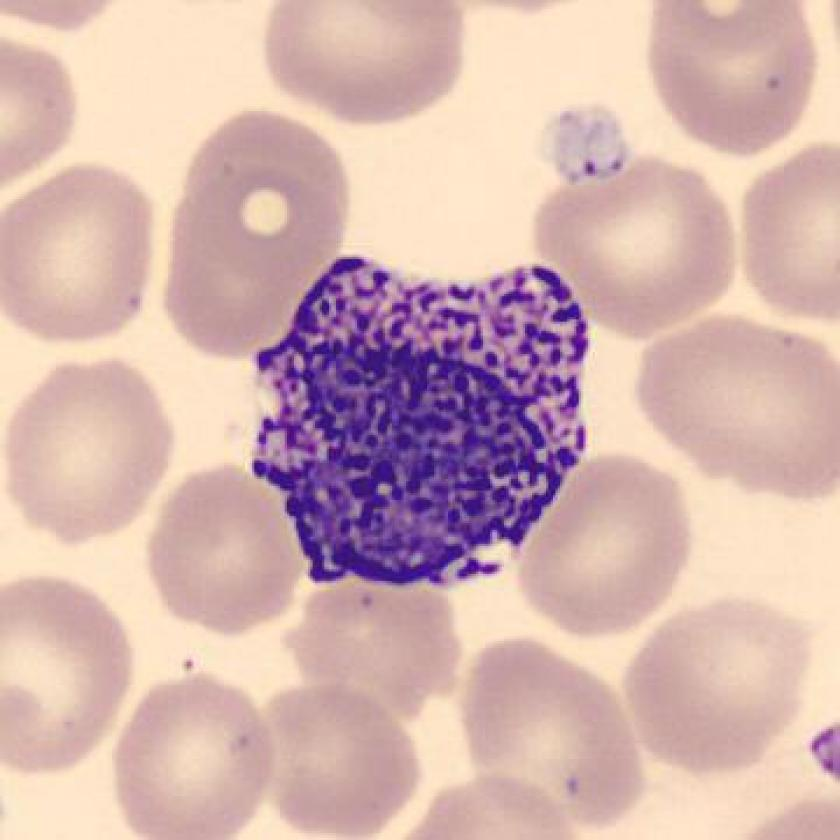basophil: (256, 258, 592, 577)
